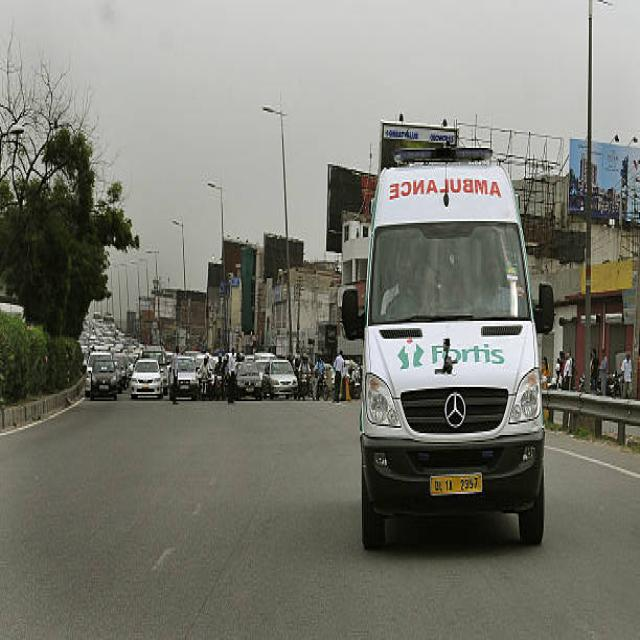ambulance: (361, 162, 545, 546)
